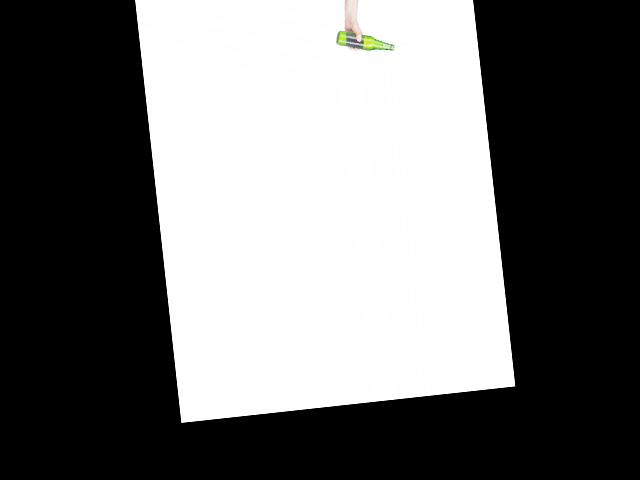beer: (334, 24, 395, 57)
